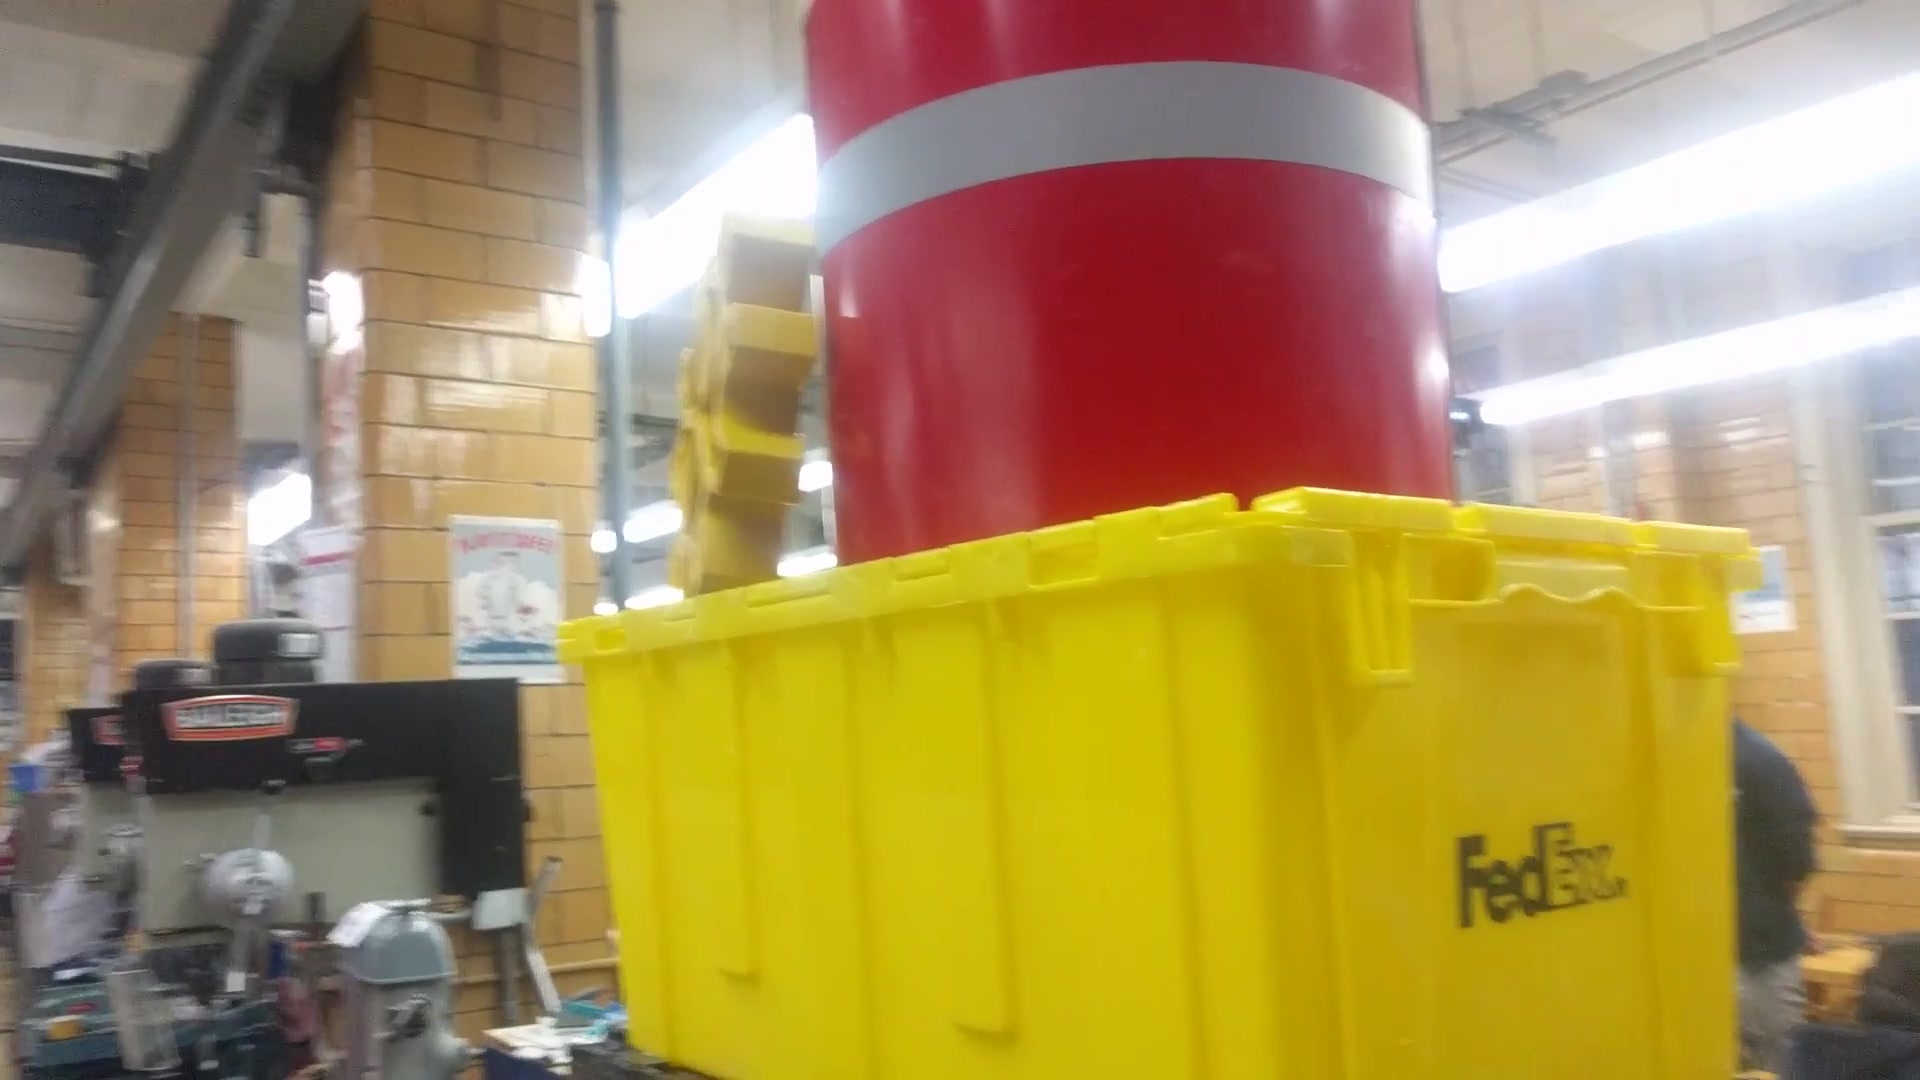gear: (663, 202, 818, 604)
